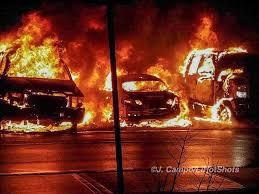fire: (0, 18, 255, 137)
